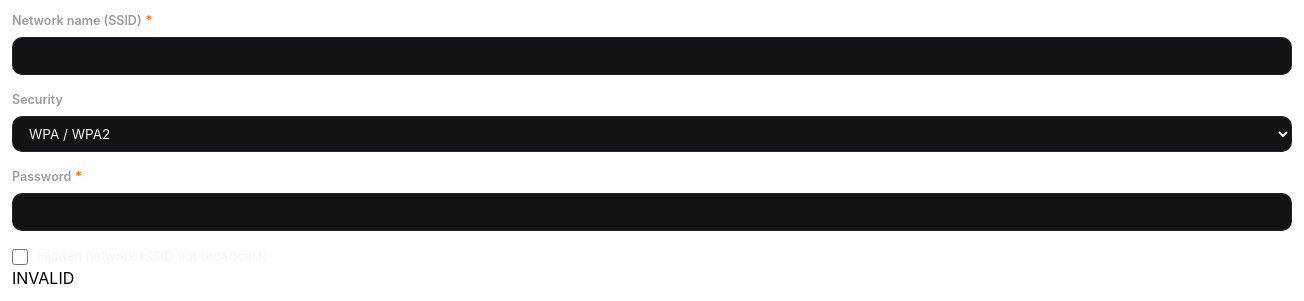
QrForm › hides the secret field for an open Wi-Fi network
The image size is (1304, 301).
Expected: the field labelled "Password*" is shown, 12,192 -> 1292,231
Select "None (open network)" in the dropdown labelled "Security". click: [652, 134]
box: 12,116 -> 1292,152
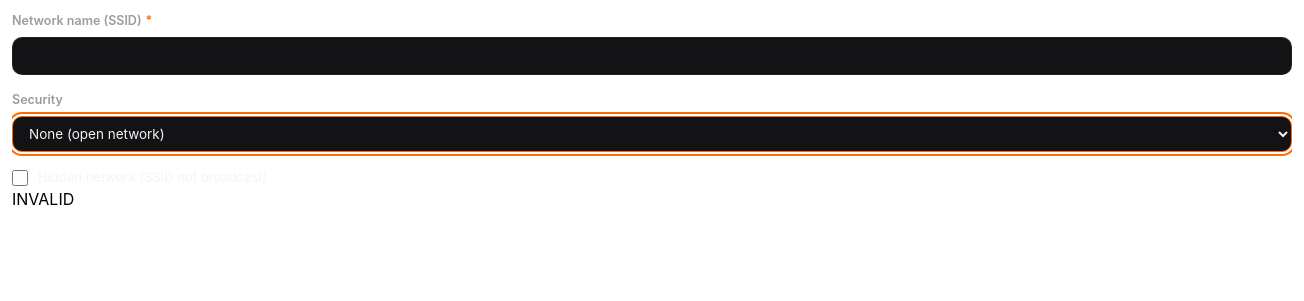
Now the label labelled "Password*" is gone
